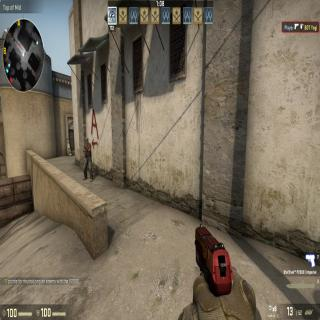T-Body: (82, 135, 93, 180)
T-Head: (83, 136, 89, 144)
